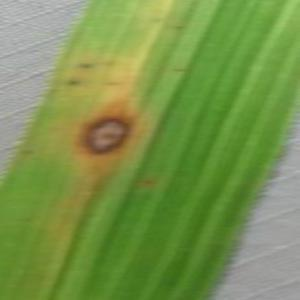0 BrownSpot: (69, 101, 141, 171), (136, 175, 160, 192), (167, 62, 191, 78), (17, 144, 38, 160), (145, 11, 167, 26), (14, 213, 35, 226), (74, 58, 94, 71), (170, 20, 188, 34), (64, 75, 81, 89), (98, 58, 116, 71), (103, 78, 121, 88)
